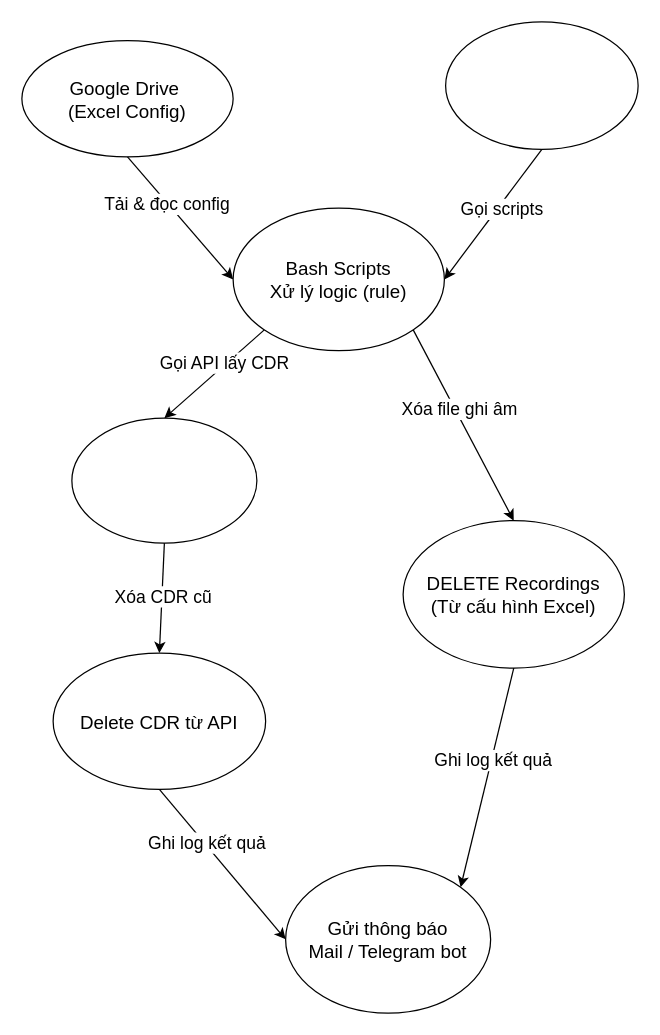
The diagram is 660 pixels wide and 1035 high, and some of its shapes have lost their labels. Here are the shapes that lost their labels. From the top down, the centre of each, then its label:
the point at 541,85: Croniob (Contab) Chạy theo lịch
the point at 164,480: API Get CDR (Theo cấu hình)
